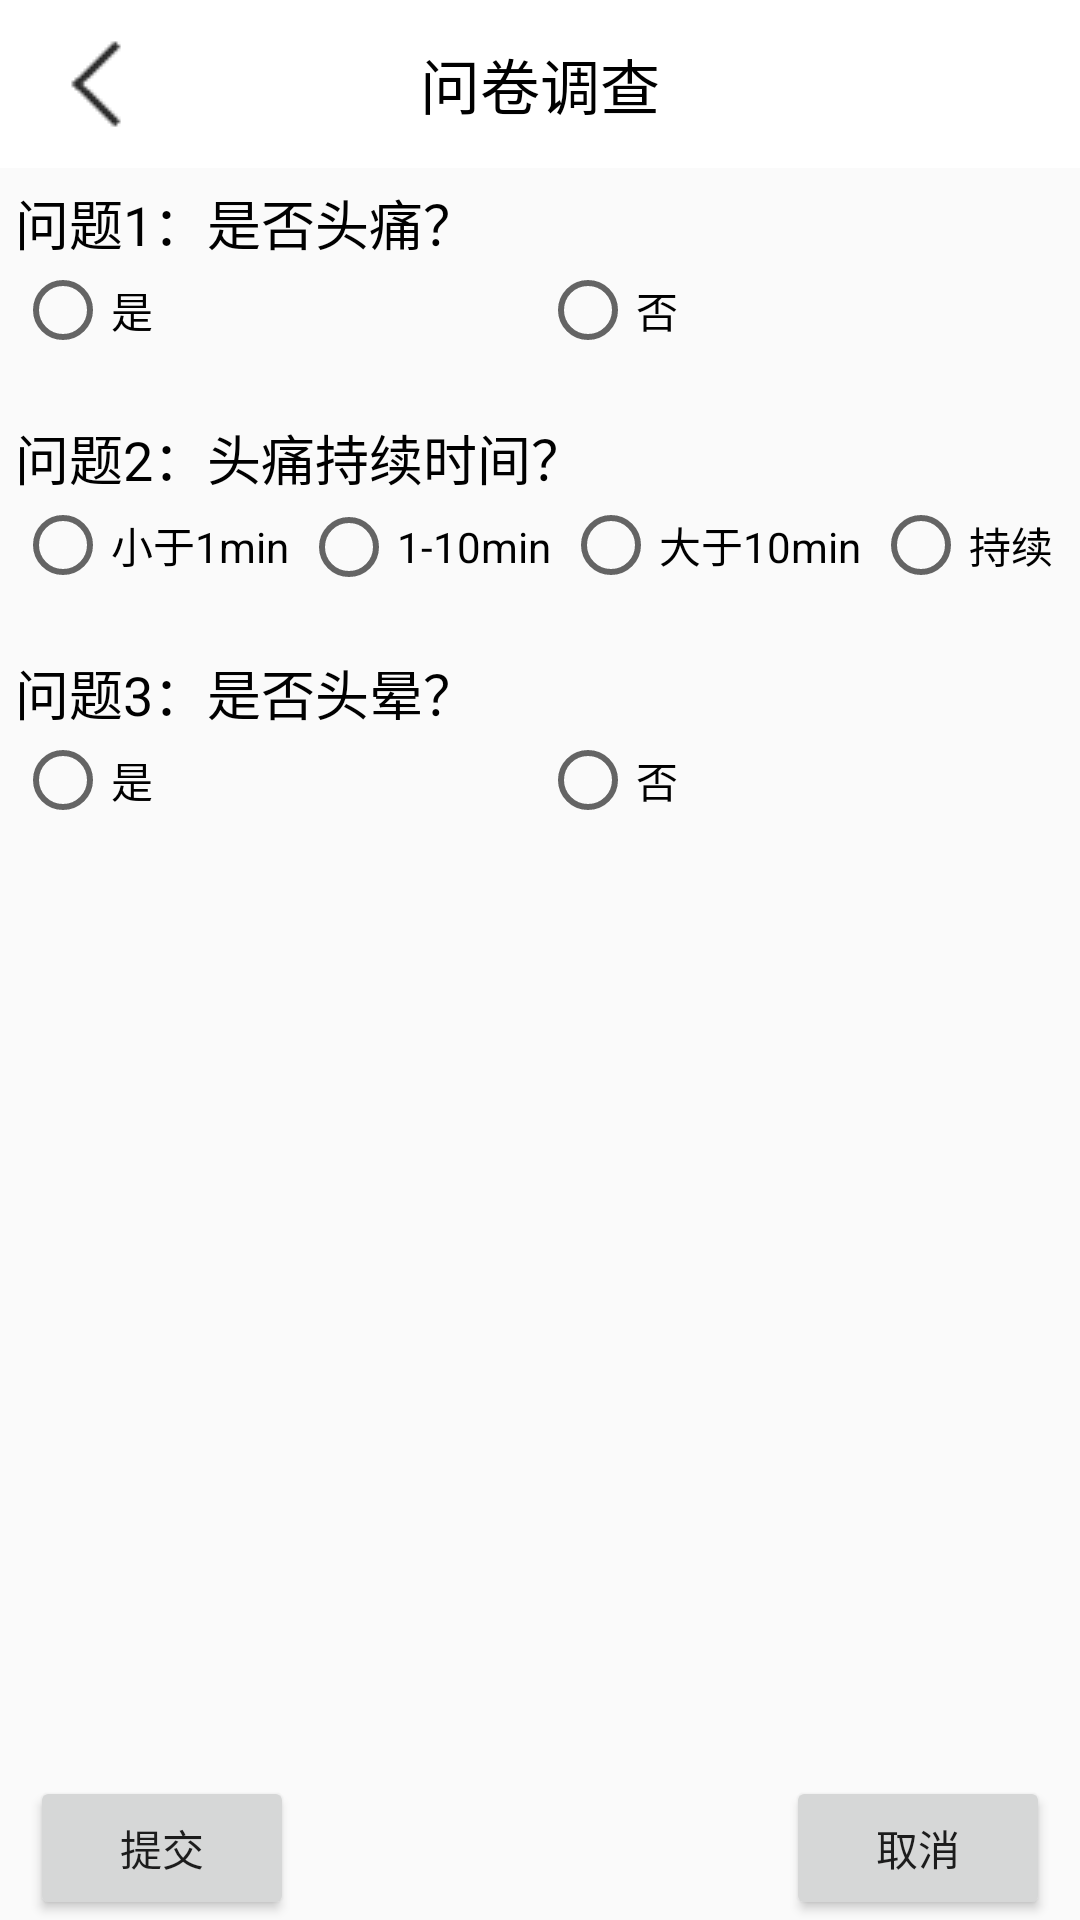

Named icons in this screenshot (1080x1920) and their centers, (x=x, y=y):
back: (x=96, y=84)
